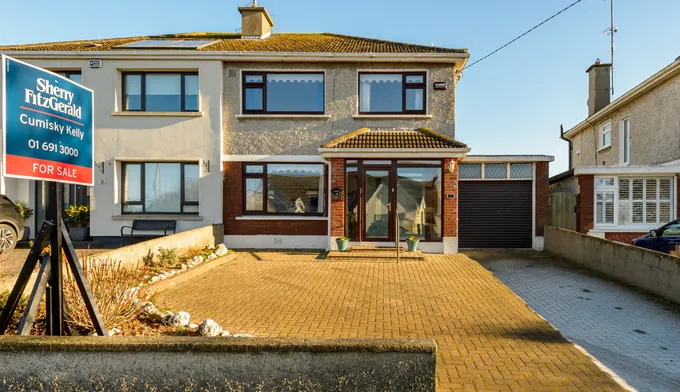property sign: (1, 51, 99, 192)
